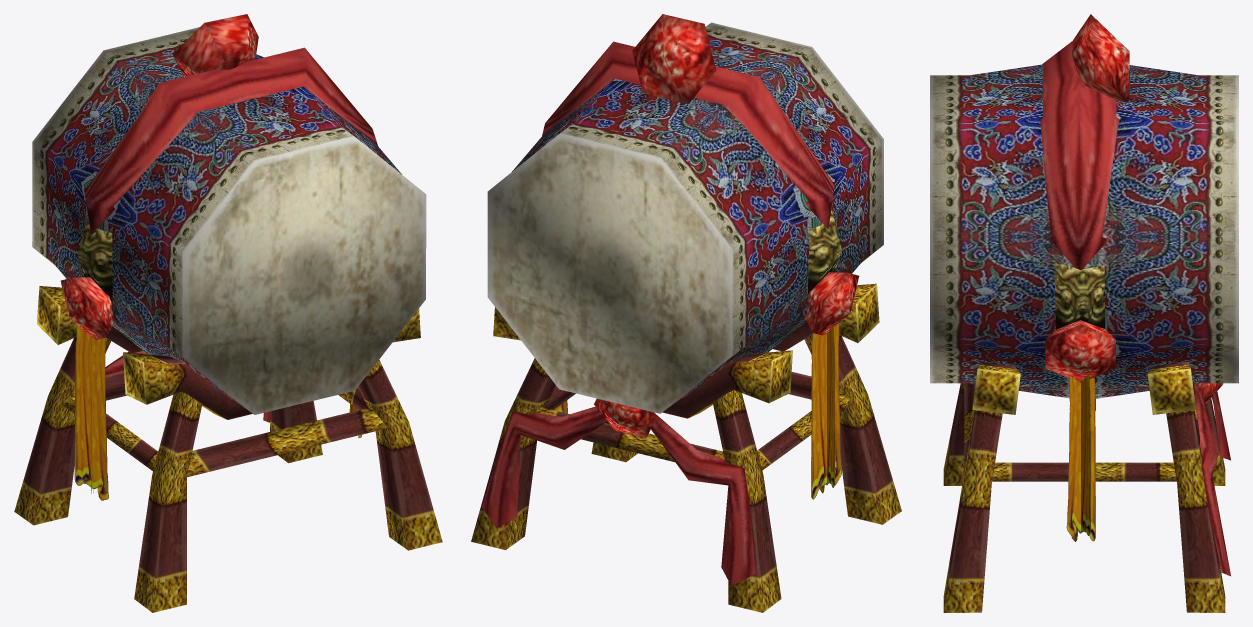
3 views of the same model, side by side, from view 1: azimuth 30°, elevation 25°; view 2: azimuth 150°, elevation 25°; view 3: azimuth 270°, elevation 25° (orthographic).
Parts seen in each view (by area): view 1: Mesh_0083.rip_noesis_meshnode_0000; view 2: Mesh_0083.rip_noesis_meshnode_0000; view 3: Mesh_0083.rip_noesis_meshnode_0000.
Boxes of the visible parts, x1=… form: Mesh_0083.rip_noesis_meshnode_0000: x1=14, y1=14, x2=442, y2=612; Mesh_0083.rip_noesis_meshnode_0000: x1=471, y1=14, x2=901, y2=612; Mesh_0083.rip_noesis_meshnode_0000: x1=930, y1=14, x2=1238, y2=612.
Size of the model in its own units: 1.1 by 1.65 by 0.896.
1 material, 1 textured.
